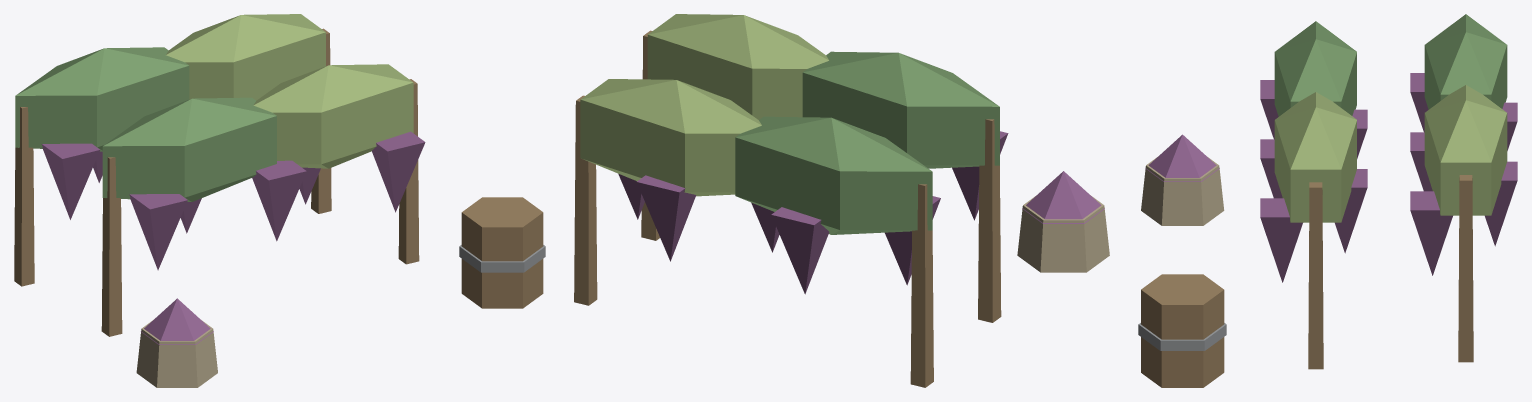
File: wine.glb
The picture shows the model from 3 angles, left to right: view 1: azimuth 30°, elevation 25°; view 2: azimuth 150°, elevation 25°; view 3: azimuth 270°, elevation 25°; orthographic projection. The views are drawn at different scales.
Parts seen in each view (by area): view 1: LOD0; view 2: LOD0; view 3: LOD0.
Part boxes in pixels (x1=…): LOD0: x1=14, y1=14, x2=545, y2=387; LOD0: x1=574, y1=14, x2=1109, y2=387; LOD0: x1=1138, y1=14, x2=1517, y2=387.
Size of what is drawn, in the model's own units: 0.6041 by 0.319 by 0.5004.
